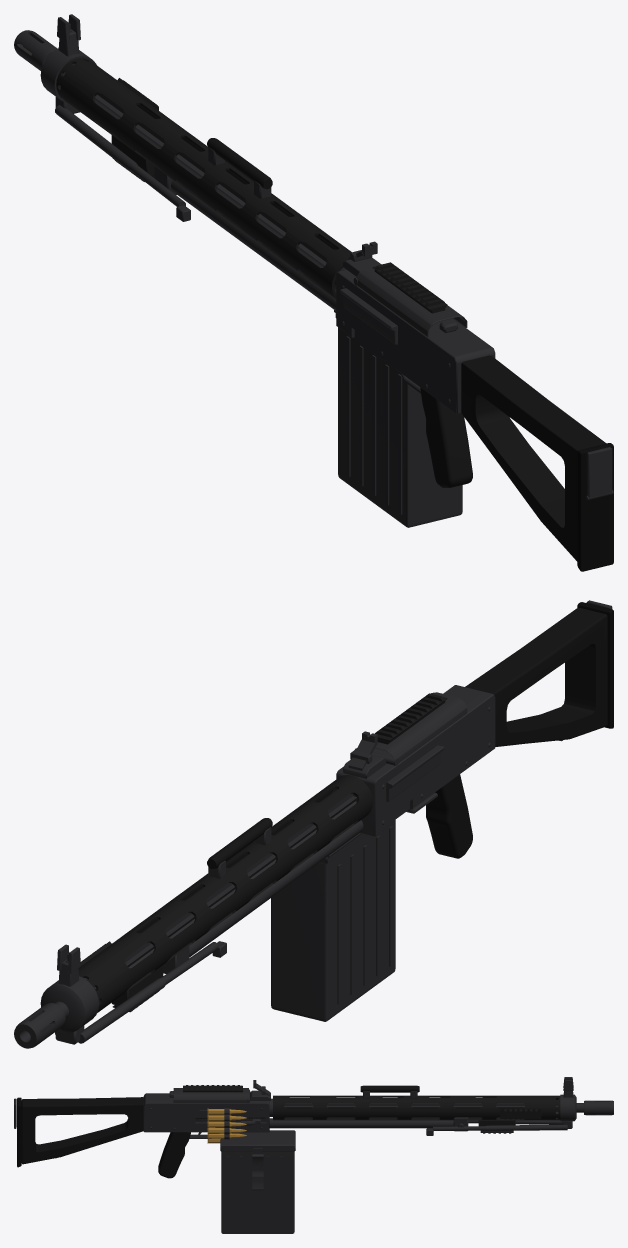
File: pkp.glb
3 views of the same model, one above another, from view 1: azimuth 30°, elevation 25°; view 2: azimuth 150°, elevation 25°; view 3: azimuth 270°, elevation 25° (orthographic). The views are drawn at different scales.
Visible parts, largest first — view 1: body, mag_ext, mag_fast, underbarrel_bipod, barrel_std; view 2: body, mag_ext, mag_fast, underbarrel_bipod, barrel_std, optic_iron; view 3: body, mag_ext, underbarrel_bipod, mag_fast, barrel_std, optic_iron, mag_ext_belt1, mag_ext_belt2.
Part boxes in pixels (box(x1,y1,x2,y2)): body: box(40, 14, 613, 571); mag_ext: box(334, 310, 462, 527); mag_fast: box(338, 328, 431, 467); underbarrel_bipod: box(55, 97, 190, 221); barrel_std: box(14, 30, 57, 70); body: box(40, 600, 613, 1032); mag_ext: box(271, 820, 395, 1021); mag_fast: box(271, 820, 395, 962); underbarrel_bipod: box(55, 941, 226, 1044); barrel_std: box(14, 1003, 65, 1048); optic_iron: box(343, 731, 385, 778); body: box(14, 1077, 583, 1178); mag_ext: box(220, 1130, 295, 1233); underbarrel_bipod: box(426, 1120, 572, 1135); mag_fast: box(221, 1149, 294, 1202); barrel_std: box(584, 1100, 613, 1115); optic_iron: box(250, 1080, 270, 1100); mag_ext_belt1: box(207, 1114, 246, 1121); mag_ext_belt2: box(207, 1121, 246, 1127).
Size of the model in its own units: 0.1127 by 0.2988 by 1.16.
